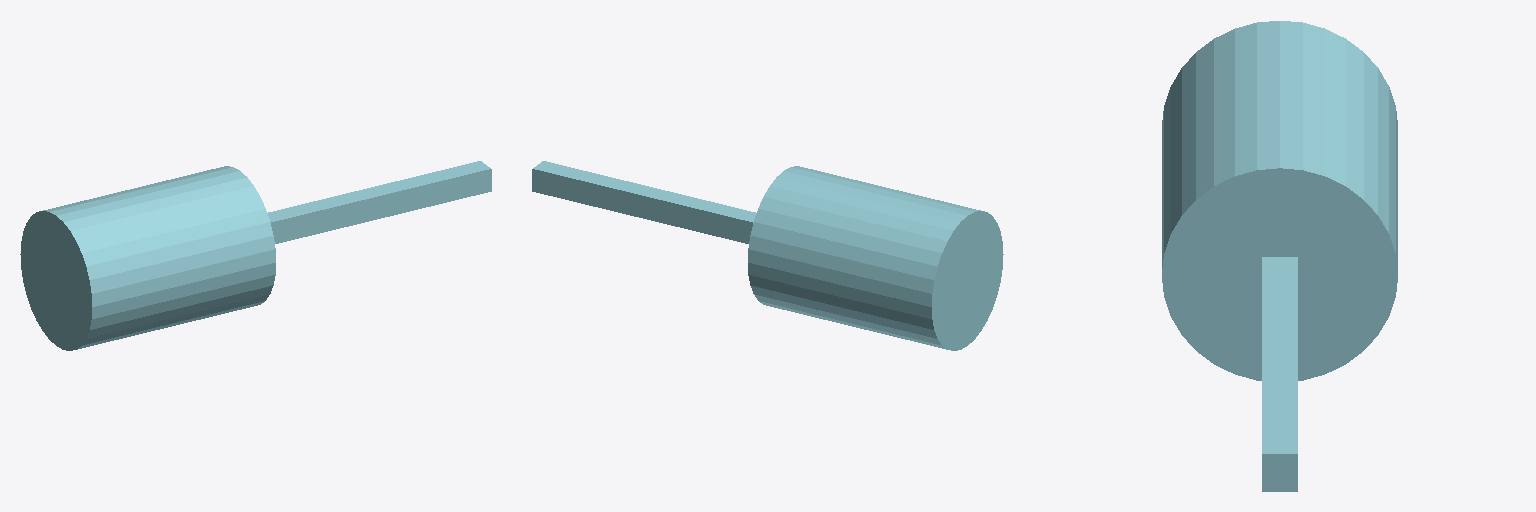
robot.urdf — cylinder_screwdriver_v3011:
<?xml version="1.0"?>
<robot name="cylinder_screwdriver_v3011">

  <link name="cylinder_screwdriver_v3011">
    <!-- Handle -->
    <visual>
      <origin xyz="0 0 0" rpy="0 1.5707963267948966 0"/>
      <geometry>
        <cylinder length="0.10913120523147735" radius="0.03692672258474629"/>
      </geometry>
      <material name="material">
        <color rgba="0.639 0.847 0.882 1.0"/>
      </material>
    </visual>
    <collision>
      <origin xyz="0 0 0" rpy="0 1.5707963267948966 0"/>
      <geometry>
        <cylinder length="0.10913120523147735" radius="0.03692672258474629"/>
      </geometry>
    </collision>

    <!-- Head -->
    <visual>
      <origin xyz="0.1274066851284319 0 0" rpy="0 0 0"/>
      <geometry>
        <box size="0.14568216502538642 0.011266916769195936 0.012950379476791545"/>
      </geometry>
      <material name="material">
        <color rgba="0.639 0.847 0.882 1.0"/>
      </material>
    </visual>
    <collision>
      <origin xyz="0.1274066851284319 0 0" rpy="0 0 0"/>
      <geometry>
        <box size="0.14568216502538642 0.011266916769195936 0.012950379476791545"/>
      </geometry>
    </collision>

    <inertial>
      <density value="400.0"/>
    </inertial>
  </link>

</robot>

--- Facts derived from the render (not from the file) ---
Views: 3 orthographic renders of the robot side by side, from view 1: azimuth 30°, elevation 25°; view 2: azimuth 150°, elevation 25°; view 3: azimuth 270°, elevation 25°.
Robot: cylinder_screwdriver_v3011 — 1 links, 0 joints (none); root link cylinder_screwdriver_v3011; default pose: all joints at 0.
Visible links, largest first — view 1: cylinder_screwdriver_v3011; view 2: cylinder_screwdriver_v3011; view 3: cylinder_screwdriver_v3011.
Link boxes in pixels (x1,y1,x2,y2): cylinder_screwdriver_v3011: (20,161,491,350); cylinder_screwdriver_v3011: (532,161,1003,350); cylinder_screwdriver_v3011: (1162,21,1397,491).
Bounding box of the posed robot: 0.2548 × 0.0739 × 0.0739 m (x, y, z).
Geometry: primitives only (box / cylinder / sphere), no mesh files.
